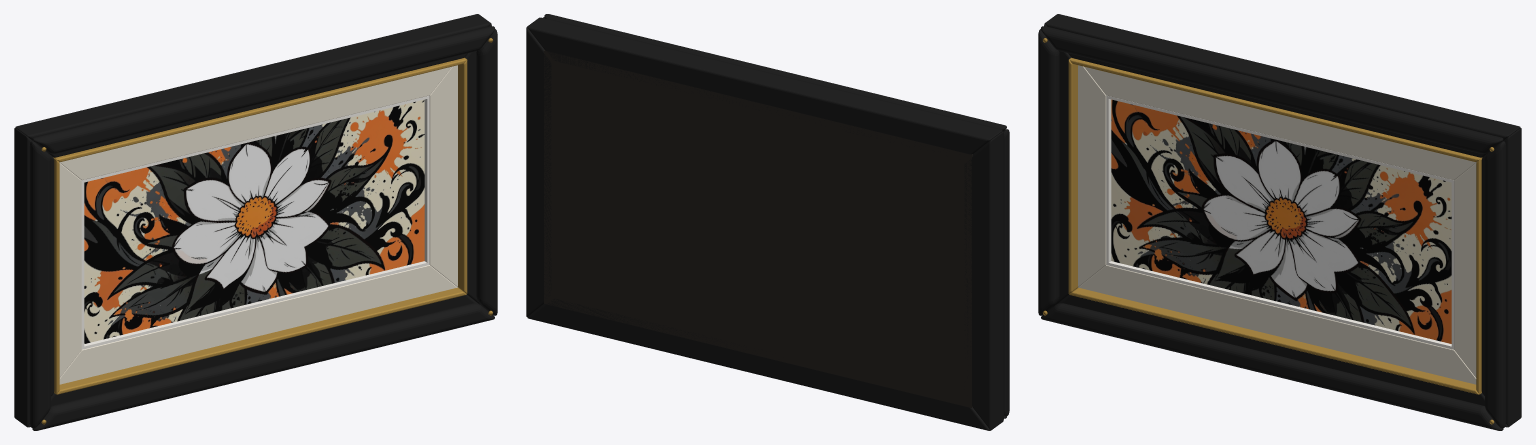
File: wall-art.glb
3 views of the same model, side by side, from view 1: azimuth 30°, elevation 25°; view 2: azimuth 150°, elevation 25°; view 3: azimuth 330°, elevation 25° (orthographic).
Parts seen in each view (by area): view 1: frame, canvas; view 2: frame; view 3: frame, canvas.
Part boxes in pixels (x1=…): frame: x1=14, y1=14, x2=497, y2=430; canvas: x1=84, y1=99, x2=424, y2=343; frame: x1=526, y1=14, x2=1009, y2=430; frame: x1=1038, y1=14, x2=1521, y2=430; canvas: x1=1111, y1=99, x2=1451, y2=343.
Size of the model in its own units: 0.5 by 0.3 by 0.0405.
Materials: 6 (1 with a texture image).
